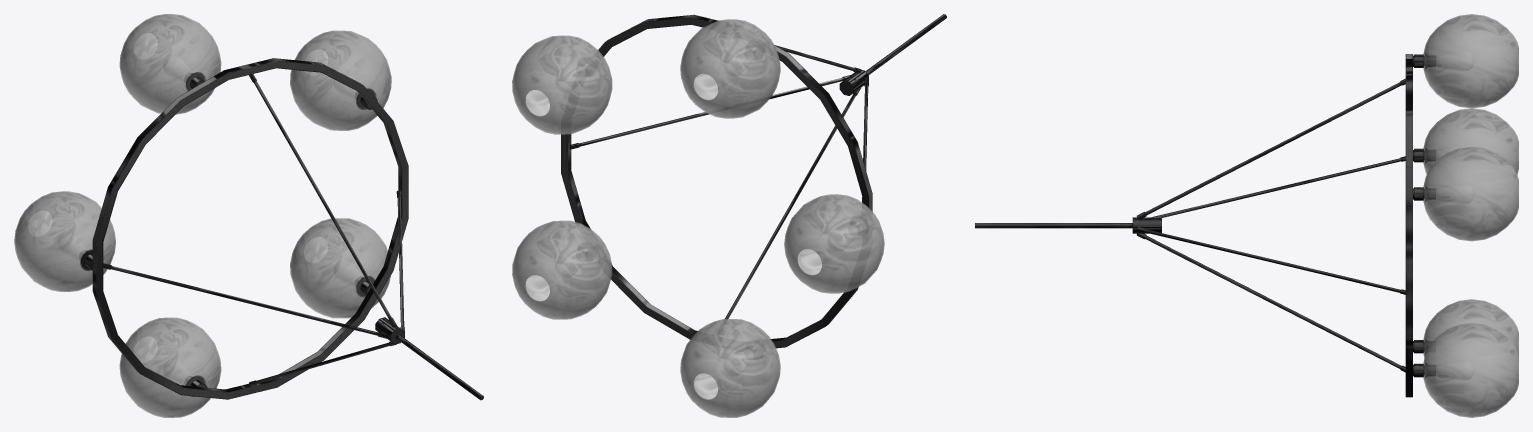
File: 10403_Chandelier_v2_L3.obj
3 views of the same model, side by side, from view 1: azimuth 30°, elevation 25°; view 2: azimuth 150°, elevation 25°; view 3: azimuth 270°, elevation 25° (orthographic). The views are drawn at different scales.
Visible parts, largest first — view 1: 10403_Chandelier_v2_Glass, 10403_Chandelier_v2_Body; view 2: 10403_Chandelier_v2_Glass, 10403_Chandelier_v2_Body; view 3: 10403_Chandelier_v2_Glass, 10403_Chandelier_v2_Body.
Part boxes in pixels (left/top/right/bottom): 10403_Chandelier_v2_Glass: left=14, top=14, right=391, bottom=417; 10403_Chandelier_v2_Body: left=79, top=58, right=483, bottom=400; 10403_Chandelier_v2_Glass: left=512, top=19, right=884, bottom=417; 10403_Chandelier_v2_Body: left=561, top=14, right=946, bottom=359; 10403_Chandelier_v2_Glass: left=1423, top=14, right=1518, bottom=417; 10403_Chandelier_v2_Body: left=975, top=52, right=1435, bottom=397.
Size of the model in its own units: 77.42 by 80.46 by 107.
Materials: 2 (2 with a texture image).
